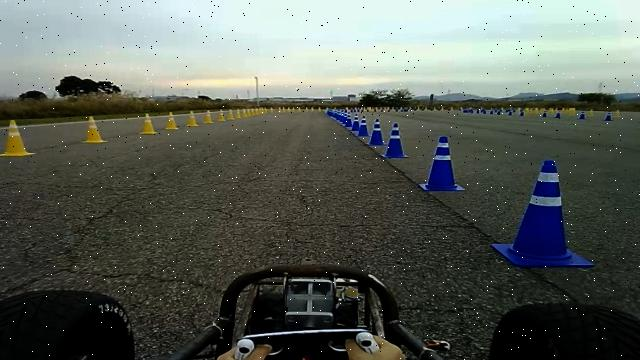blue cone: (491, 158, 595, 268), (418, 135, 466, 191), (381, 122, 410, 158), (367, 118, 387, 146), (358, 116, 370, 137)
yellow cone: (1, 119, 36, 157), (82, 115, 108, 144), (139, 112, 158, 135), (165, 111, 179, 130), (186, 110, 199, 127), (203, 110, 214, 124), (226, 109, 236, 120), (218, 110, 226, 122), (235, 108, 242, 119)
